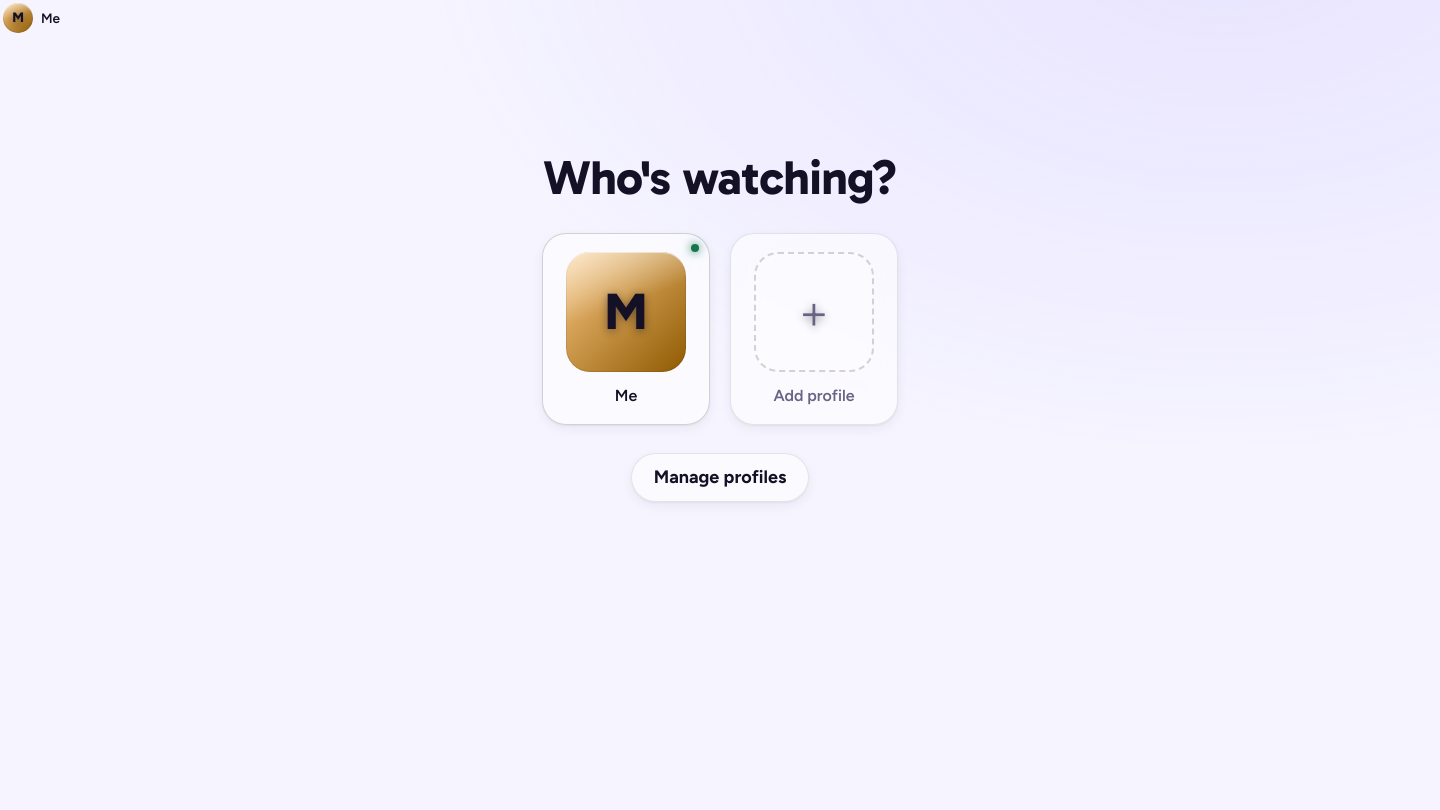
Test: ProfilesPage › rejects duplicate names
Click the button "+ Add profile" at coordinates (814, 329), box [730,233,898,425]
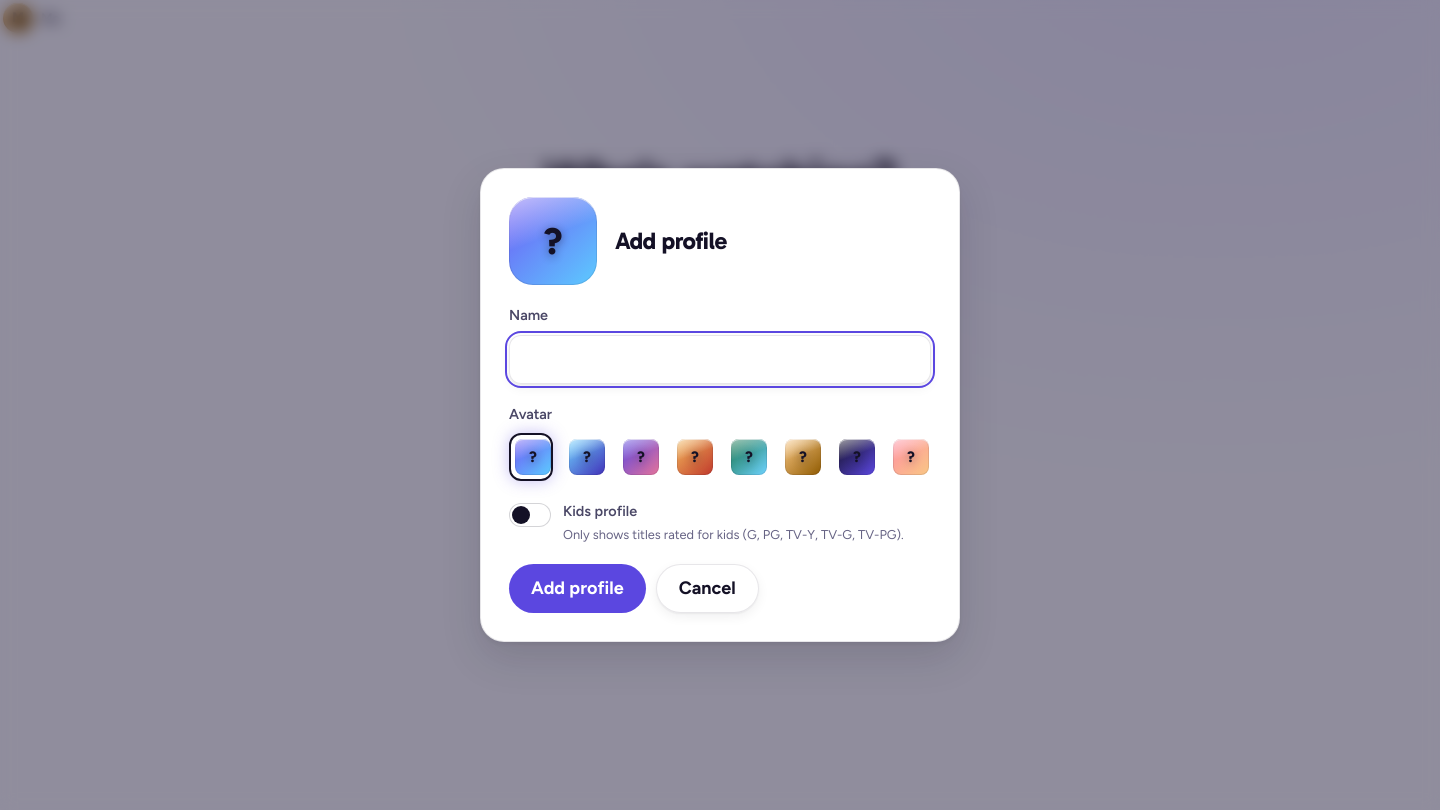
Type "me" into the field labelled "Name" at coordinates (720, 359), box [509,335,931,384]
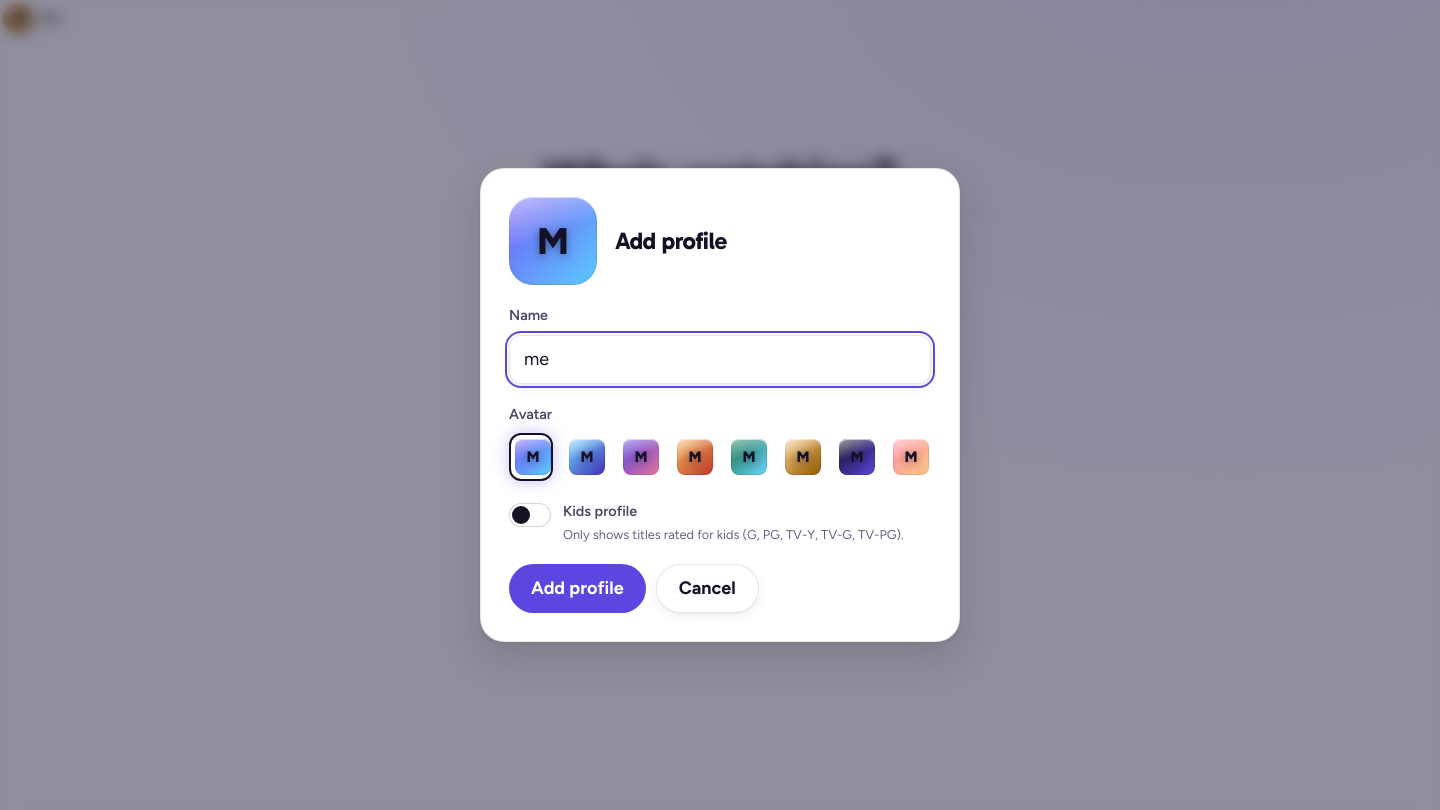
Click the button "Add profile" at coordinates (577, 588), box [509,564,646,613]
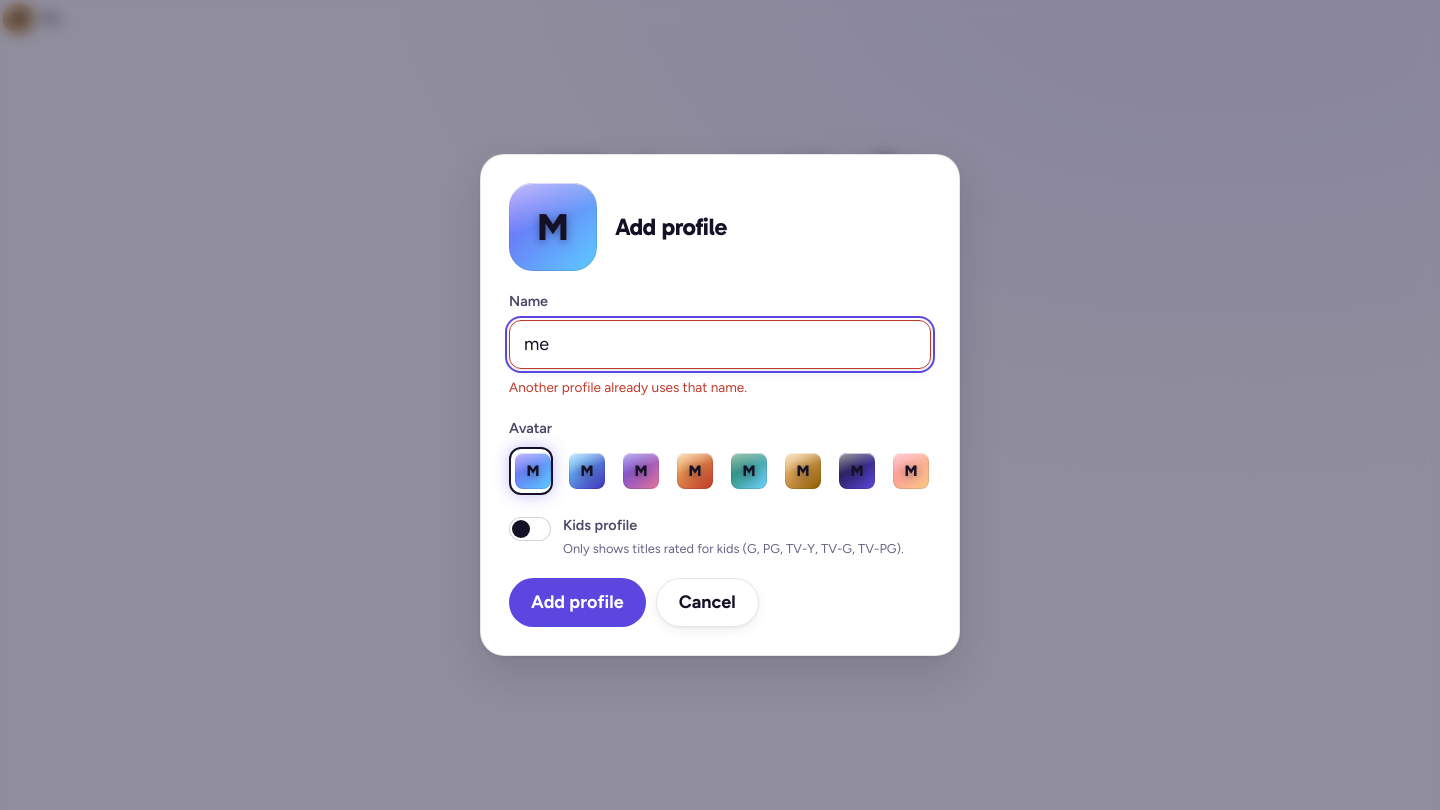
Expected: the message shows "already uses that name", [509,379,747,395]
